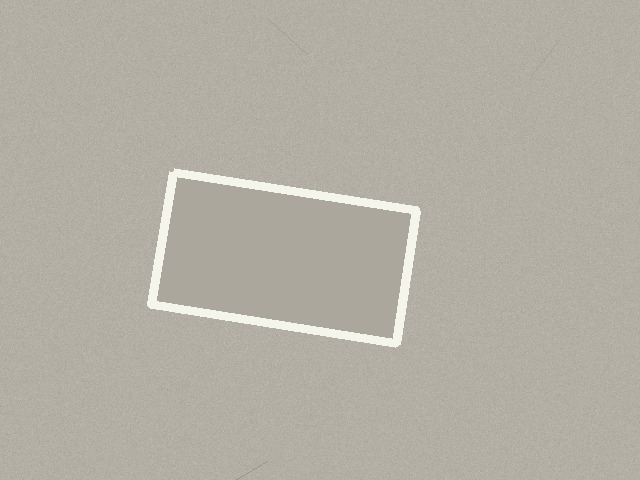parking_area: (151, 172, 416, 343)
